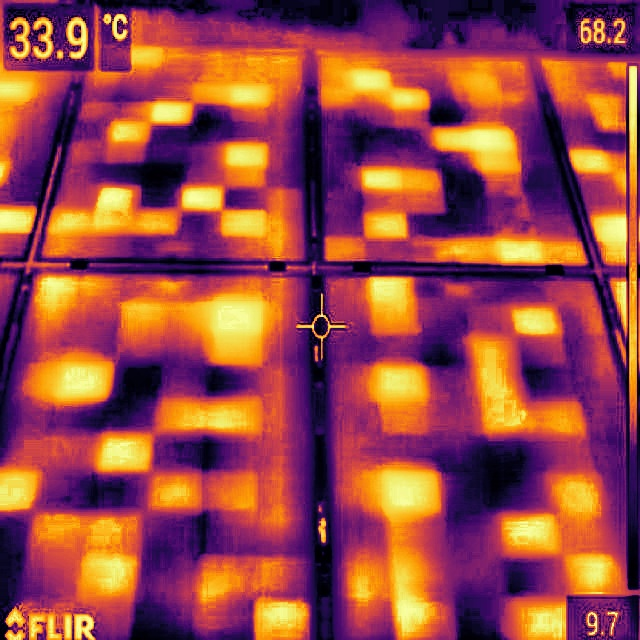Moderate-Critical: (58, 362, 111, 397), (215, 303, 260, 332), (469, 128, 514, 152)
Moderate-High: (498, 512, 558, 554), (80, 554, 137, 598), (385, 471, 438, 512), (97, 432, 151, 472), (514, 600, 565, 638), (494, 237, 543, 262), (149, 102, 191, 125), (225, 143, 265, 166), (569, 148, 606, 171), (0, 77, 31, 100), (391, 89, 428, 108), (354, 69, 389, 89), (231, 85, 266, 103)
